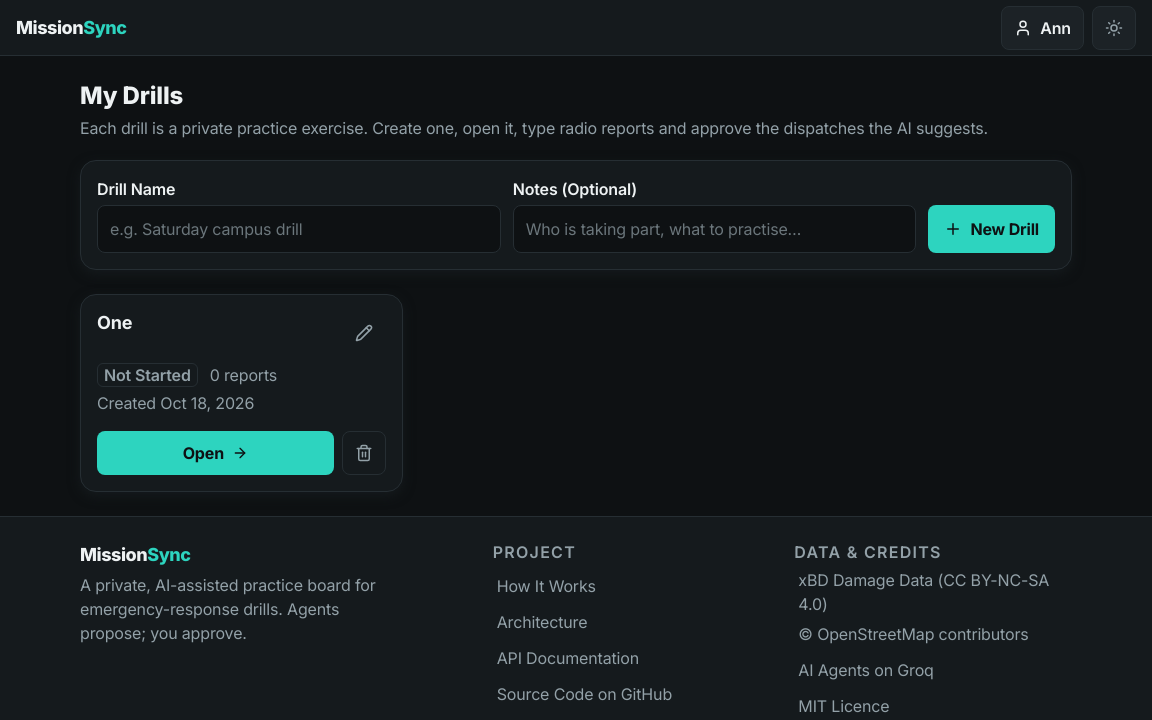
protected routes › an expired session (401 anywhere) returns you to sign-in
Expected: the heading "One" is shown, [97, 312, 132, 333]
Click the button named "Rename One".
click(364, 333)  # box [342, 311, 386, 355]
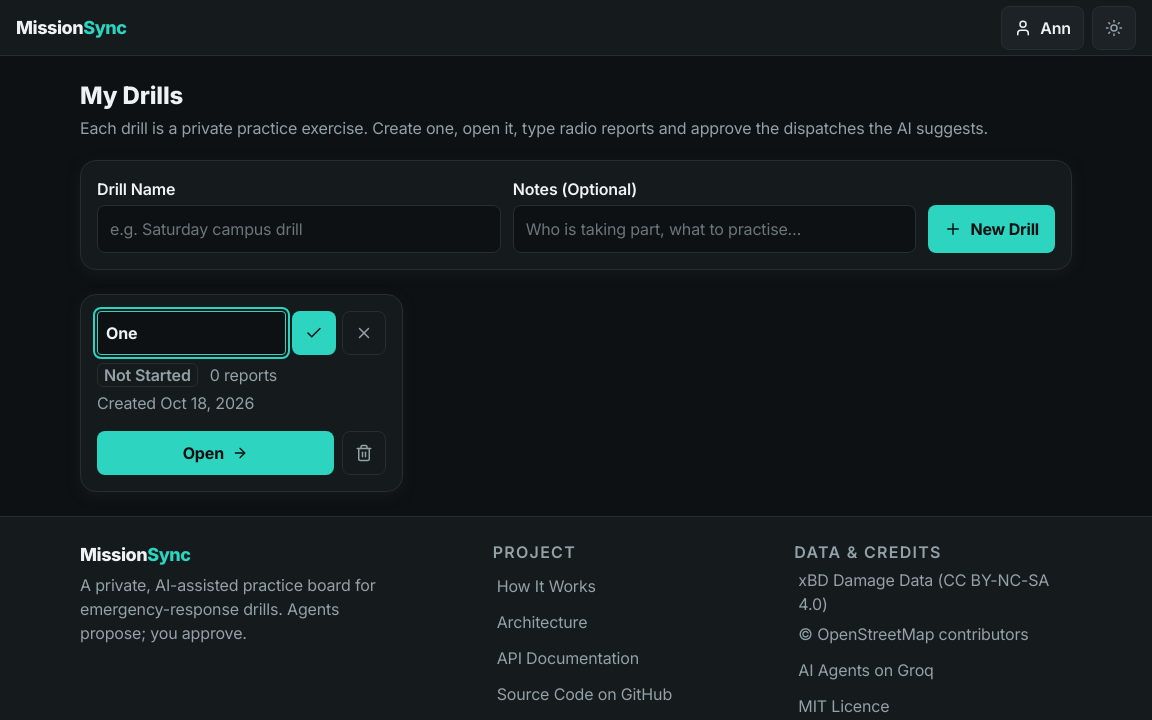
Type " two" into the field named "New name for".
click(191, 333); type(" two")  # box [97, 311, 286, 355]
Then press Enter
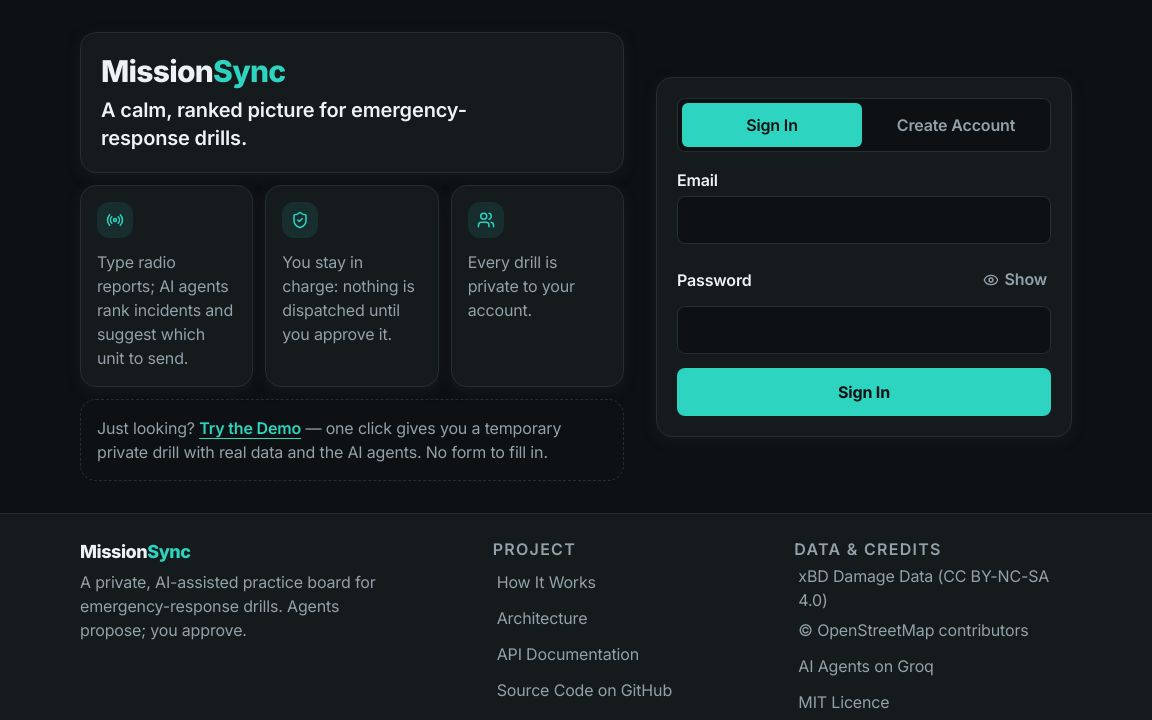
Expected: the button "Sign In" is shown, [677, 368, 1051, 416]
